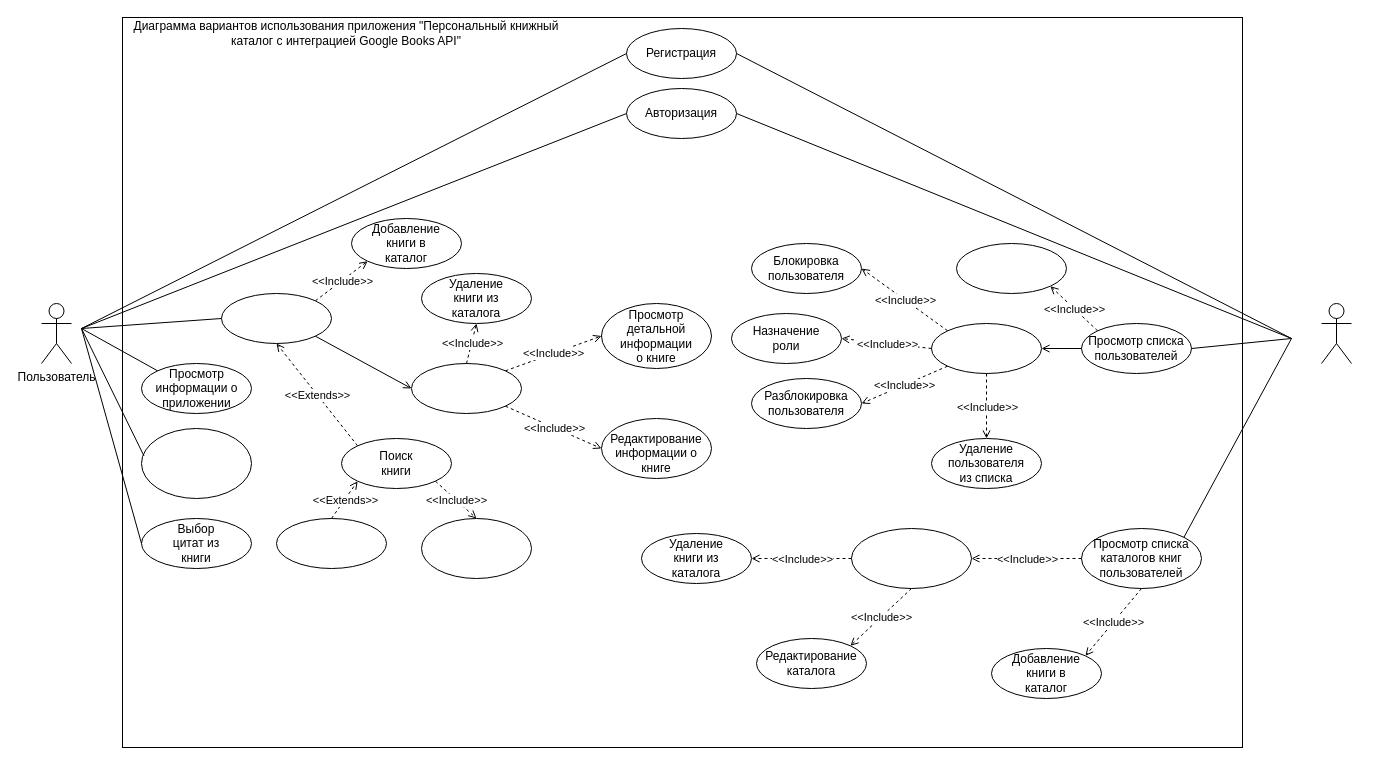
This 1397x765 diagram has some shape labels left out. Each missing label, with the centre of its shape:
Администратор: (x=1336, y=333)
Впечатления о прочитанной книге: (x=196, y=463)
Выбор каталога: (x=911, y=558)
Выбор книги: (x=466, y=388)
Выбор пользователя: (x=986, y=348)
Добавление пользователя: (x=1011, y=268)
Импорт книги из результатов поиска: (x=476, y=548)
Просмотр личного каталога книг: (x=276, y=318)
Фильтрация результатов поиска: (x=331, y=543)
